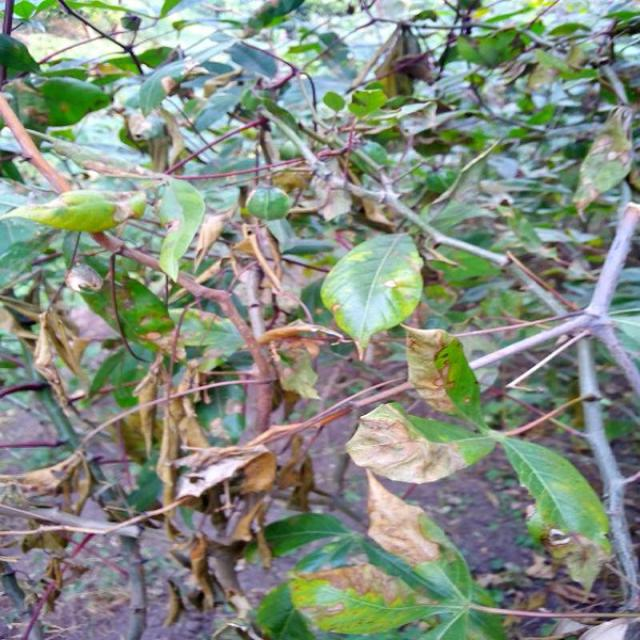cassava leaf: (345, 399, 497, 485), (321, 230, 425, 352), (2, 186, 145, 232)
